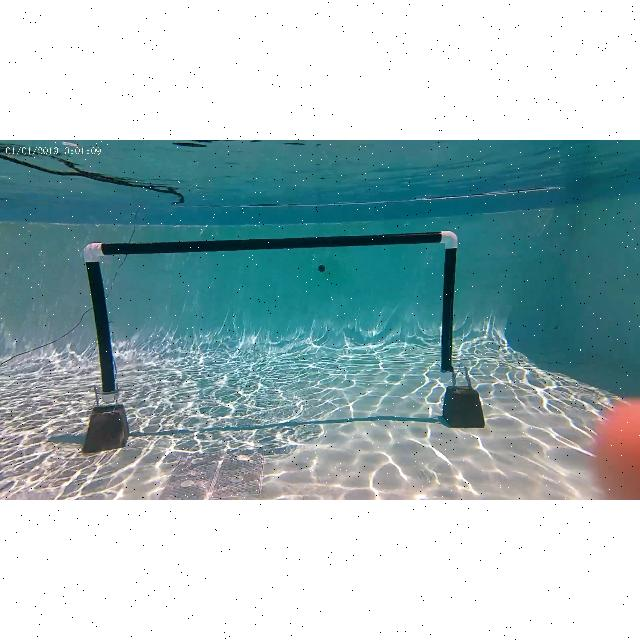prequal gate: (85, 230, 459, 404)
prequal gate leg l: (82, 244, 120, 404)
prequal gate leg r: (439, 228, 459, 384)
